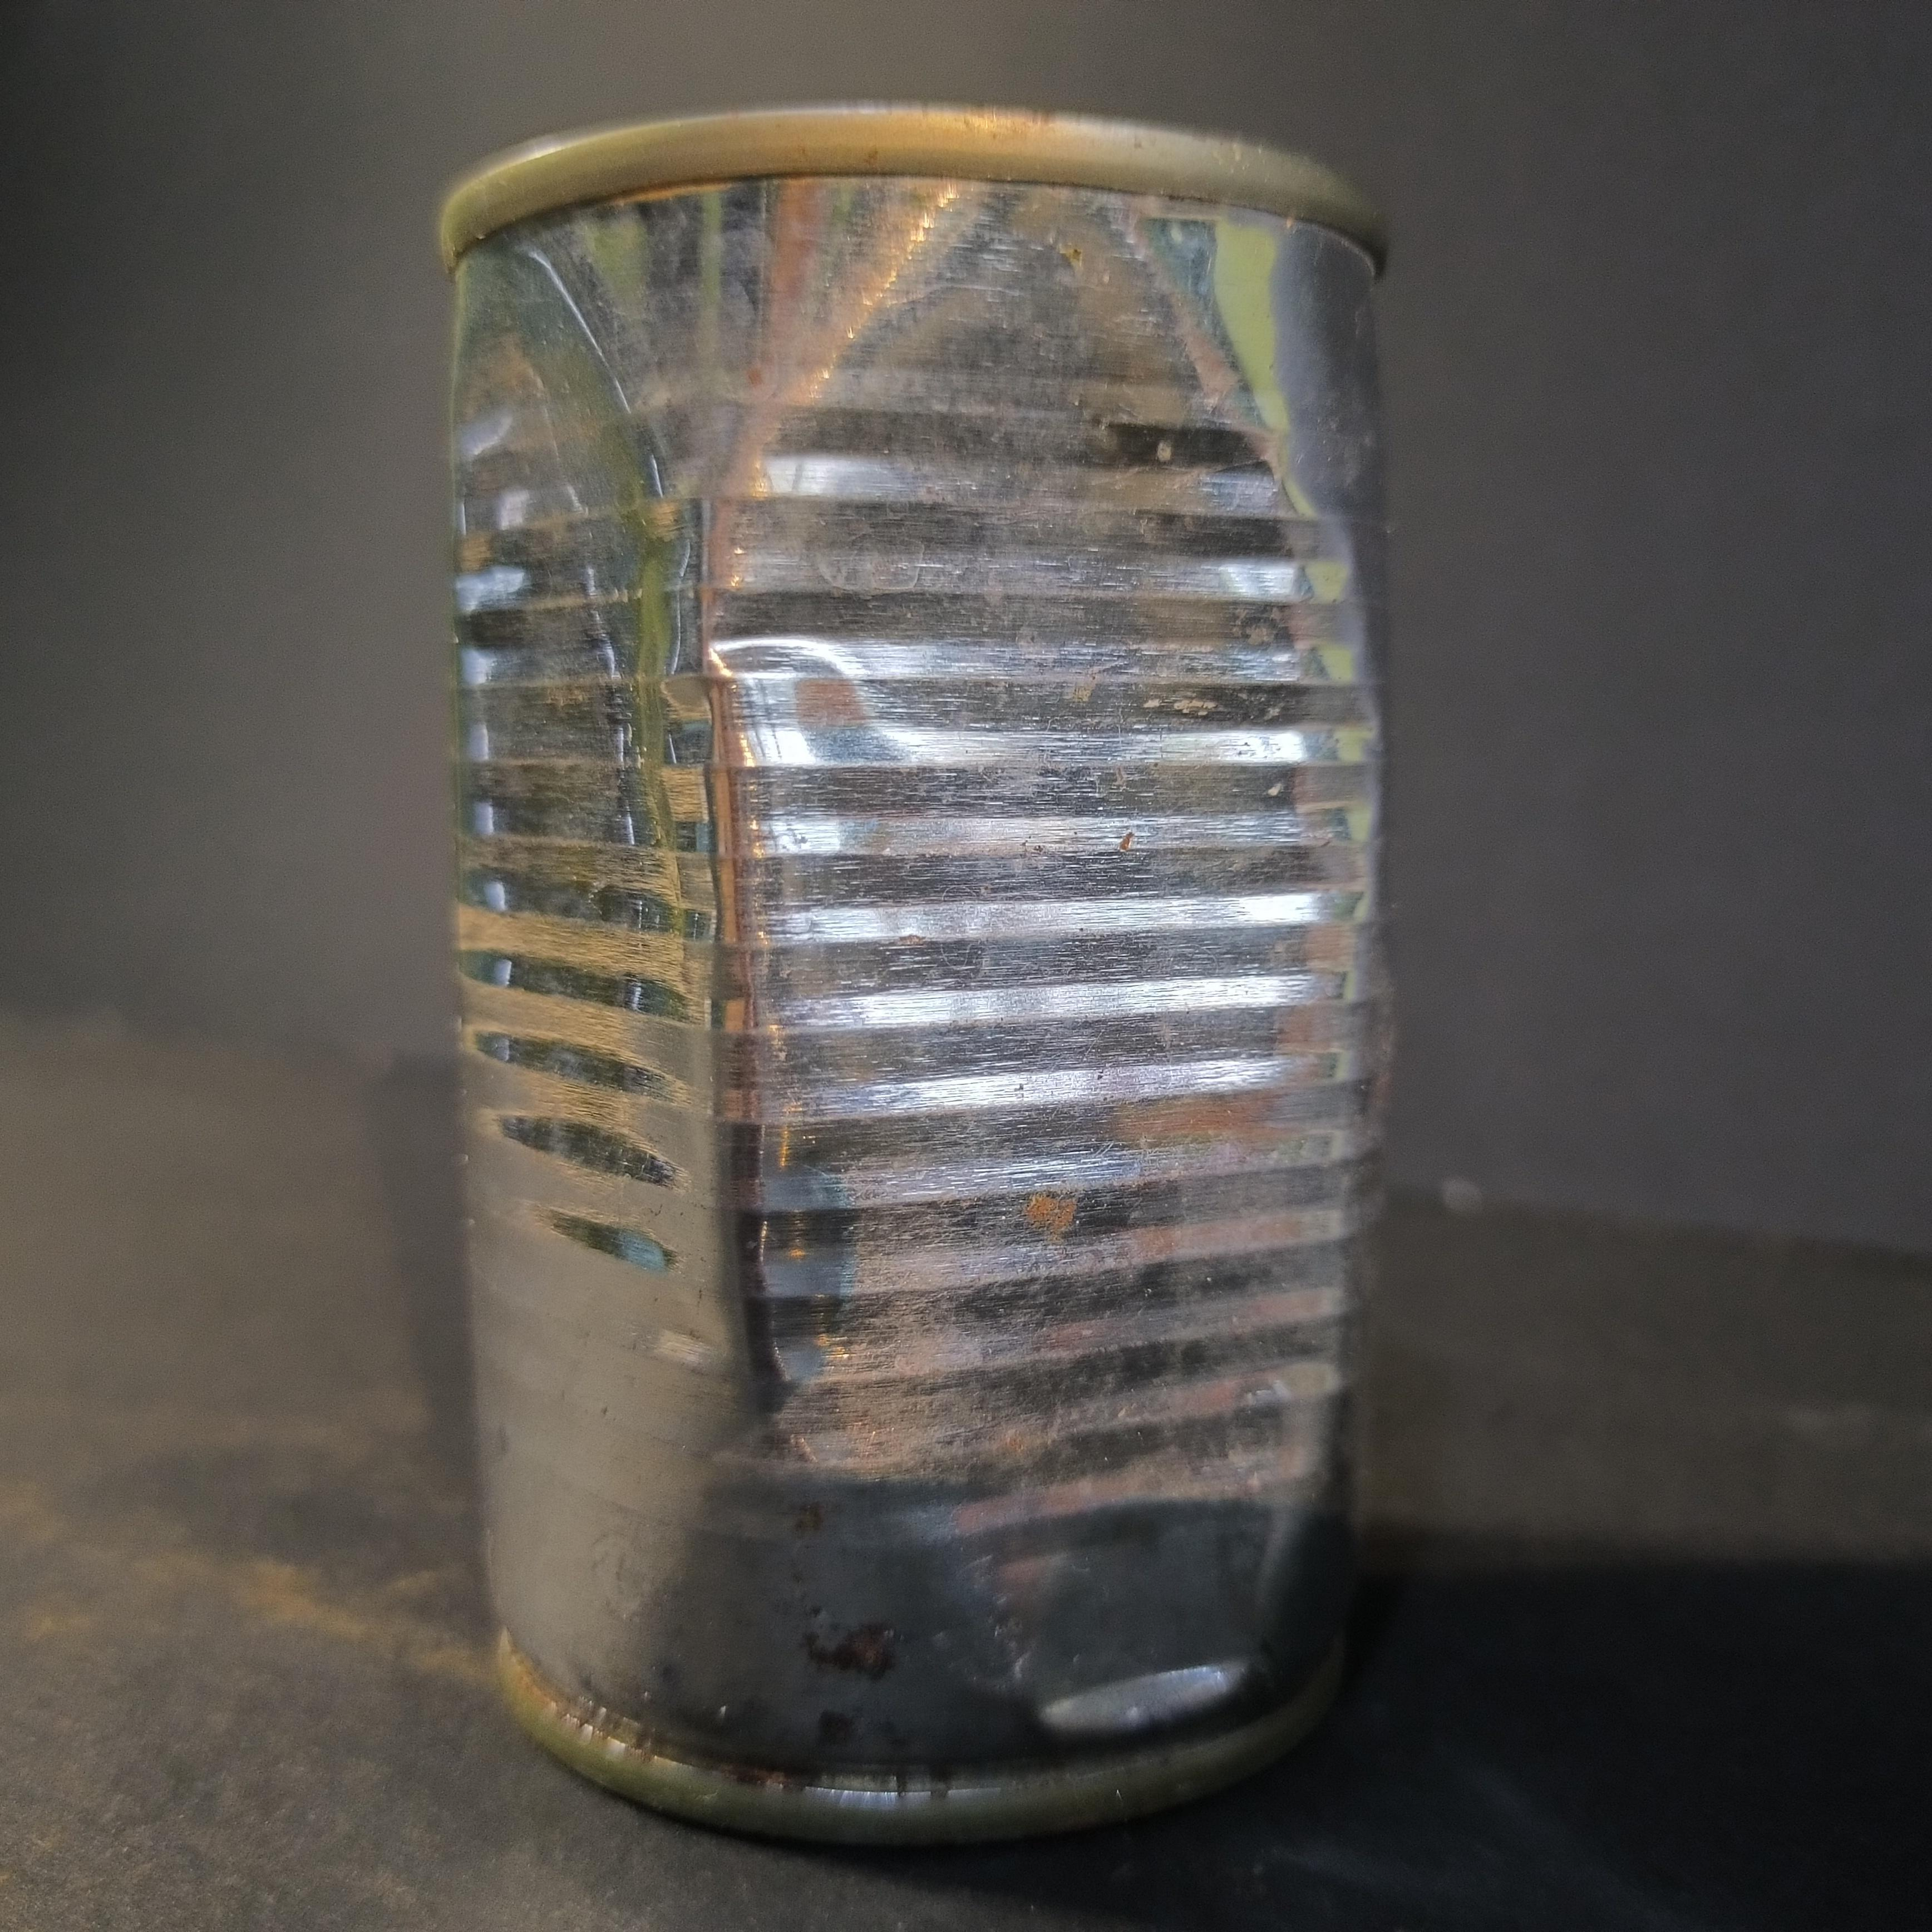Dented: (409, 92, 1422, 1831)
